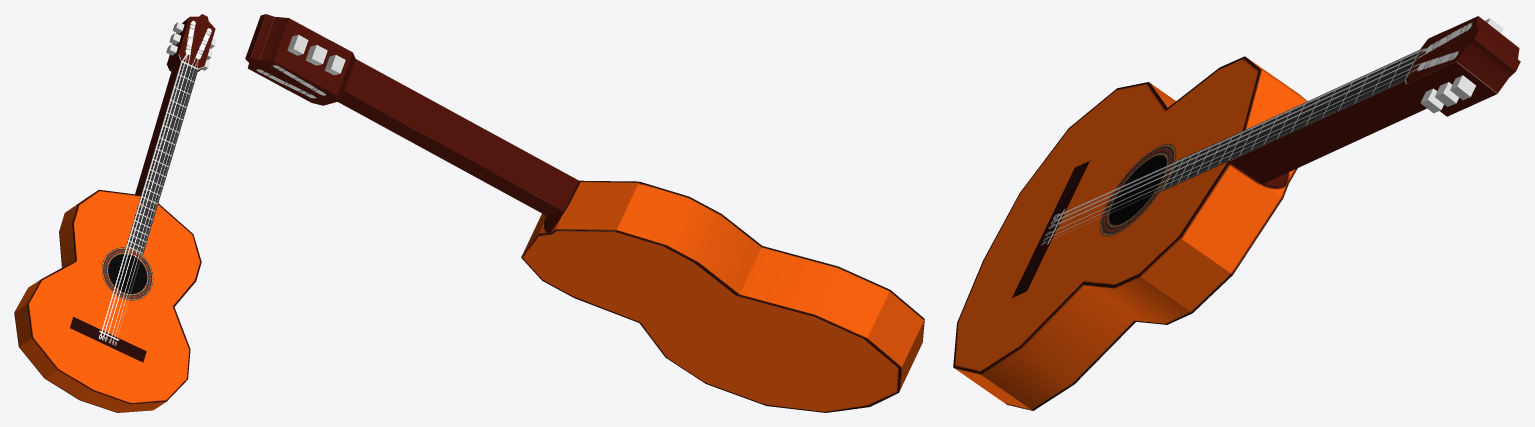
The model's file is Guitarra2_000013.obj.
3 renders of one model, left to right at view 1: azimuth 30°, elevation 25°; view 2: azimuth 150°, elevation 25°; view 3: azimuth 270°, elevation 25°, orthographic. The views are drawn at different scales.
Parts seen in each view (by area): view 1: g2_pPlane4.001; view 2: g2_pPlane4.001; view 3: g2_pPlane4.001.
Boxes of the visible parts, x1=… form: g2_pPlane4.001: x1=14, y1=14, x2=216, y2=412; g2_pPlane4.001: x1=245, y1=14, x2=924, y2=412; g2_pPlane4.001: x1=953, y1=16, x2=1520, y2=410.
Bounding box in the file's own units: 9.03 × 8.27 × 7.88.
